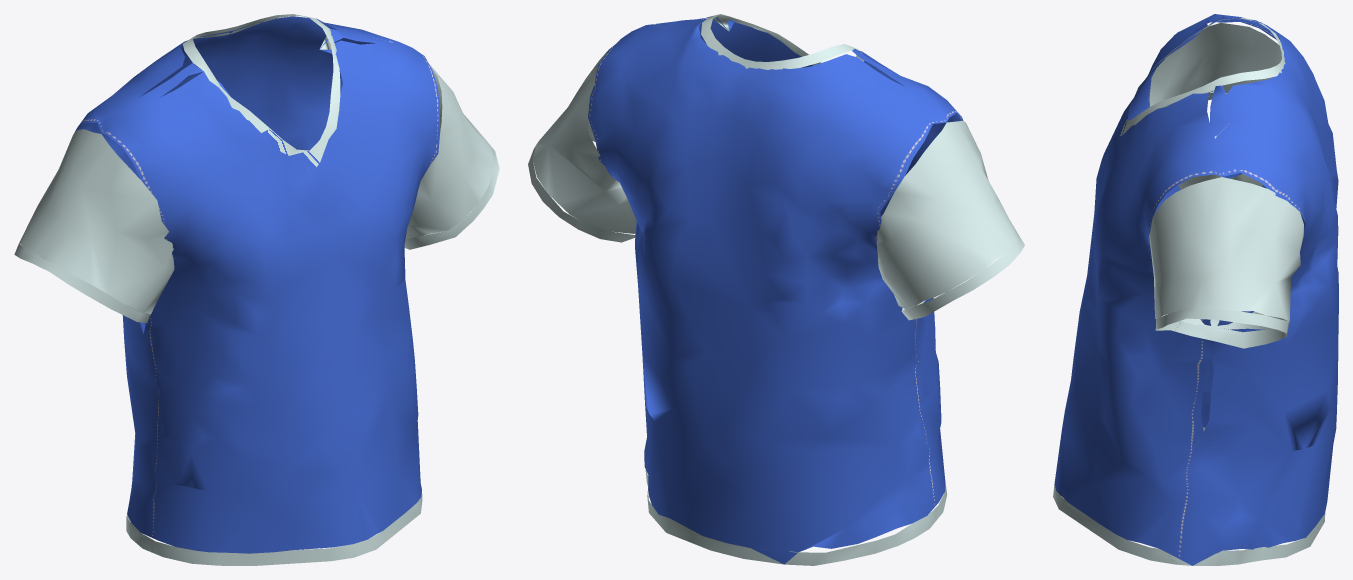
File: shirt_proxy.glb
3 renders of one model, left to right at view 1: azimuth 30°, elevation 25°; view 2: azimuth 150°, elevation 25°; view 3: azimuth 270°, elevation 25°, orthographic. The views are drawn at different scales.
Parts seen in each view (by area): view 1: proxy; view 2: proxy; view 3: proxy.
Part boxes in pixels (x1,y1,x2,y2): proxy: (14,14,499,565); proxy: (528,14,1024,565); proxy: (1053,14,1338,565).
Size of the model in its own units: 0.6216 by 0.6112 by 0.3378.
Materials: 1 (1 with a texture image).
